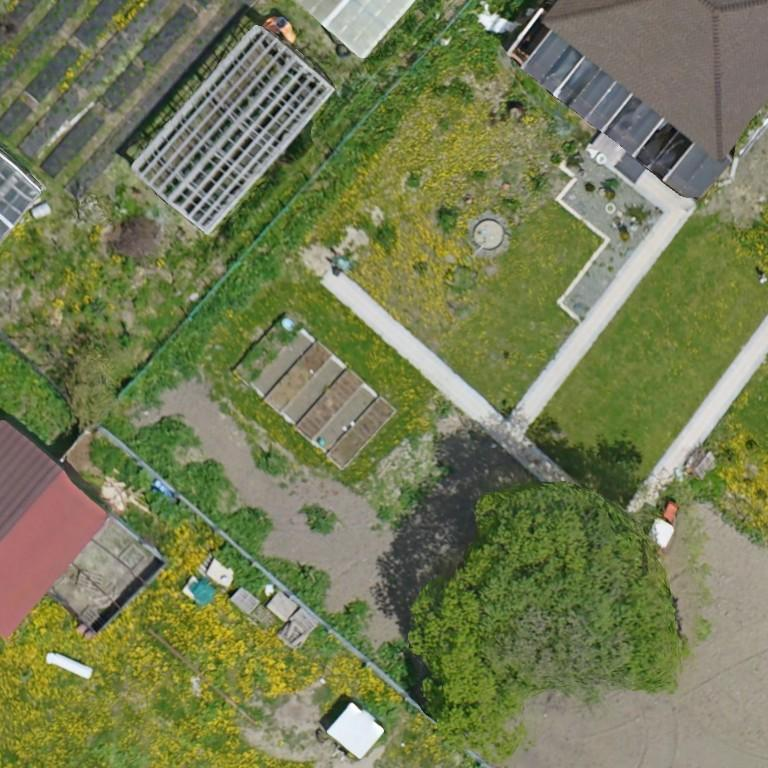hogweed: (130, 417, 268, 555), (220, 543, 265, 592)
